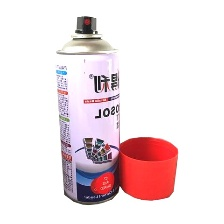aerosol_cans: (52, 8, 123, 209)
